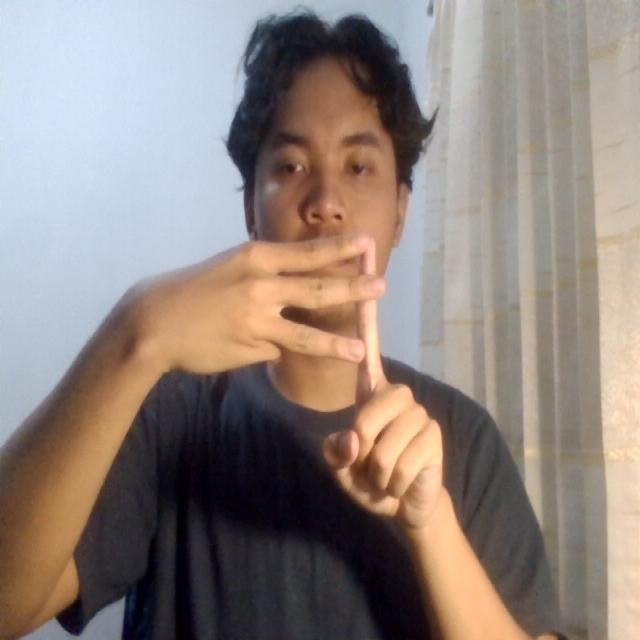B: (161, 215, 459, 553)
